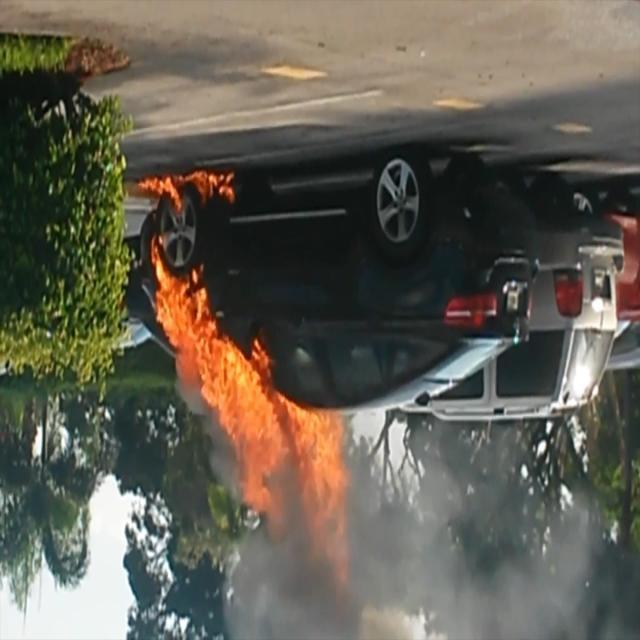fire: (140, 171, 351, 512)
